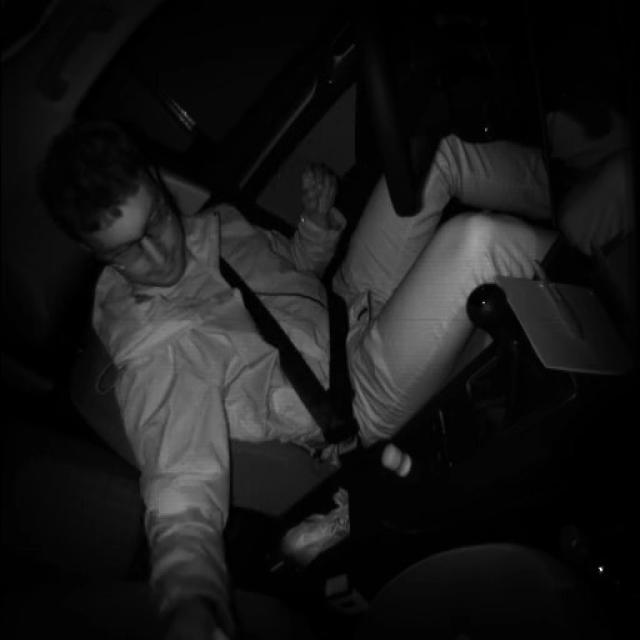pen: (531, 256, 589, 342)
